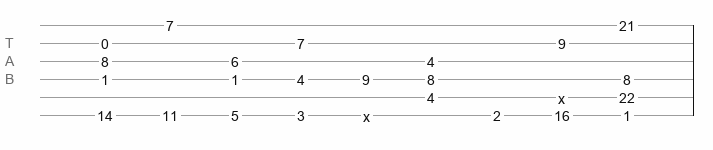0: (101, 36, 109, 46)
1: (101, 72, 109, 82), (231, 72, 239, 82), (623, 108, 631, 118)
11: (162, 108, 178, 118)
14: (97, 108, 113, 118)
16: (554, 108, 570, 118)
2: (493, 108, 501, 118)
21: (619, 18, 635, 28)
22: (619, 90, 635, 100)
3: (297, 108, 305, 118)
4: (297, 72, 305, 82), (427, 54, 435, 64), (427, 90, 435, 100)
5: (231, 108, 239, 118)
6: (231, 54, 239, 64)
7: (166, 18, 174, 28), (297, 36, 305, 46)
8: (101, 54, 109, 64), (427, 72, 435, 82), (623, 72, 631, 82)
9: (362, 72, 370, 82), (558, 36, 566, 46)
x: (363, 109, 370, 117), (558, 91, 565, 99)
